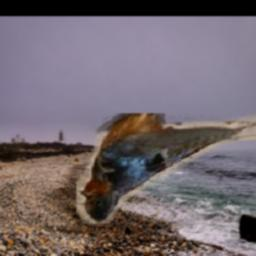Swallow: (78, 114, 256, 225)
